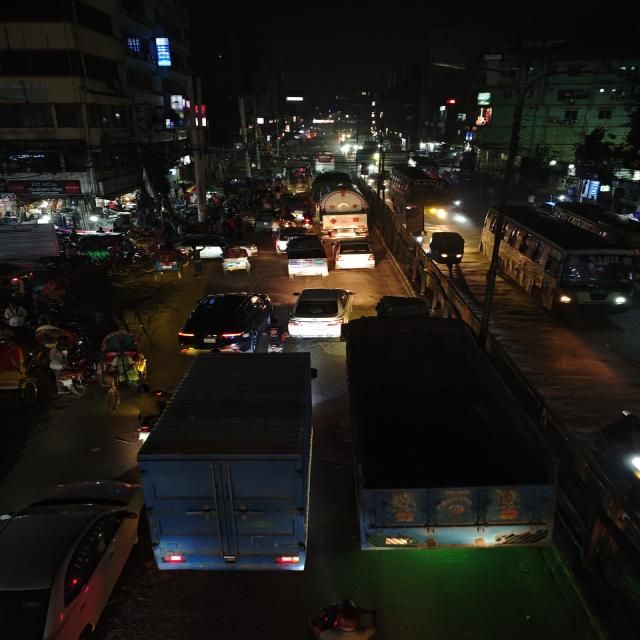bus: (343, 323, 554, 567), (482, 202, 640, 314), (386, 165, 453, 219), (317, 186, 373, 240)
car: (0, 473, 148, 640), (172, 289, 275, 355), (285, 284, 359, 340), (282, 235, 330, 281), (329, 236, 377, 272)
cng: (422, 228, 468, 272), (74, 233, 137, 264), (277, 192, 316, 228), (251, 208, 279, 232)
motorcycle: (304, 594, 394, 640)
rickshaw: (43, 344, 96, 398), (0, 337, 39, 403), (99, 328, 148, 377), (140, 247, 188, 279), (33, 323, 74, 355), (219, 246, 256, 276)
truck: (135, 354, 320, 578), (173, 289, 276, 355), (318, 185, 374, 242)
